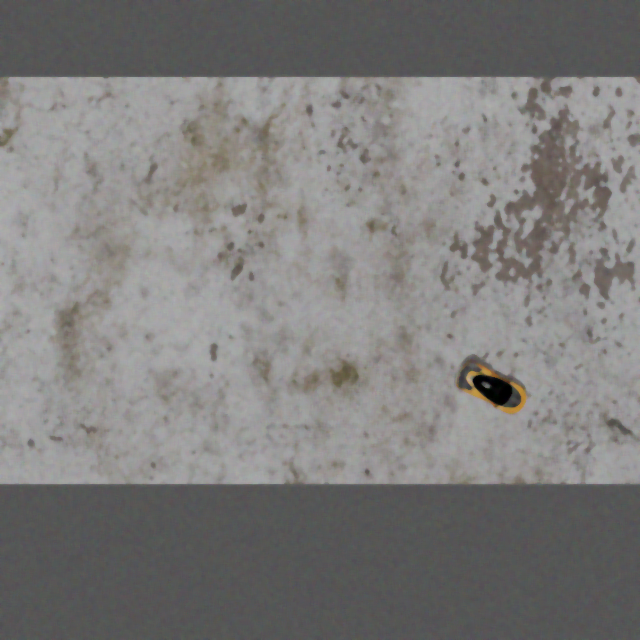car: (449, 355, 538, 423)
